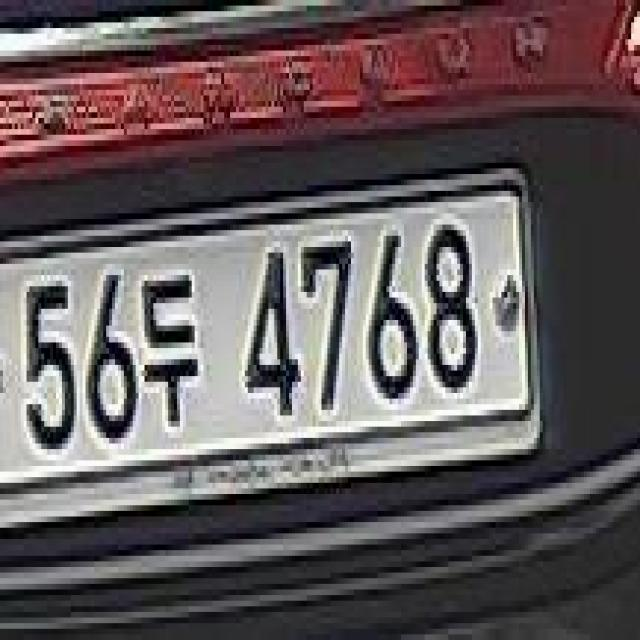illegal_plate: (5, 173, 548, 537)
